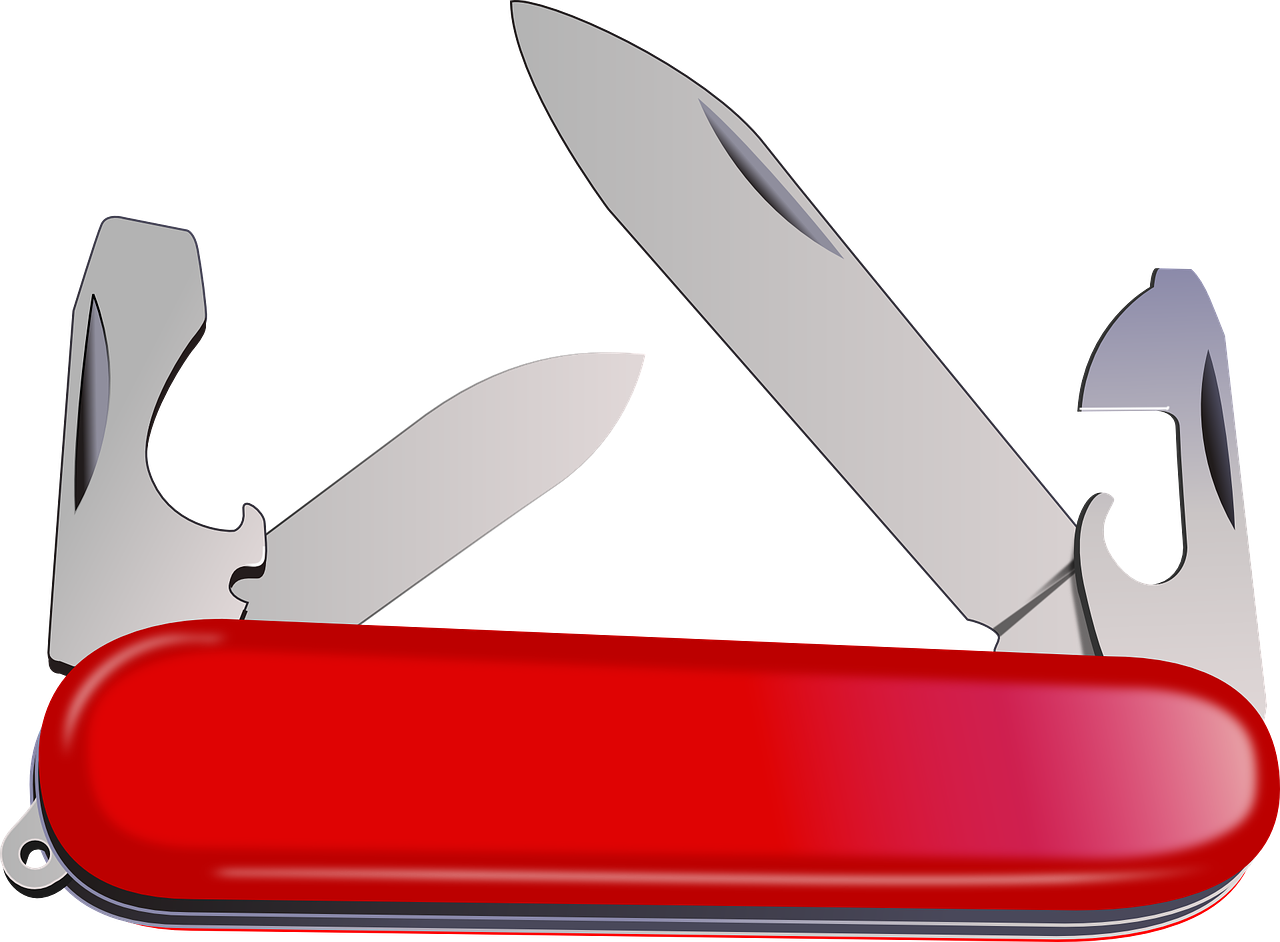knife: (510, 0, 1104, 656), (230, 347, 648, 622), (41, 211, 271, 666), (1071, 263, 1273, 726)
